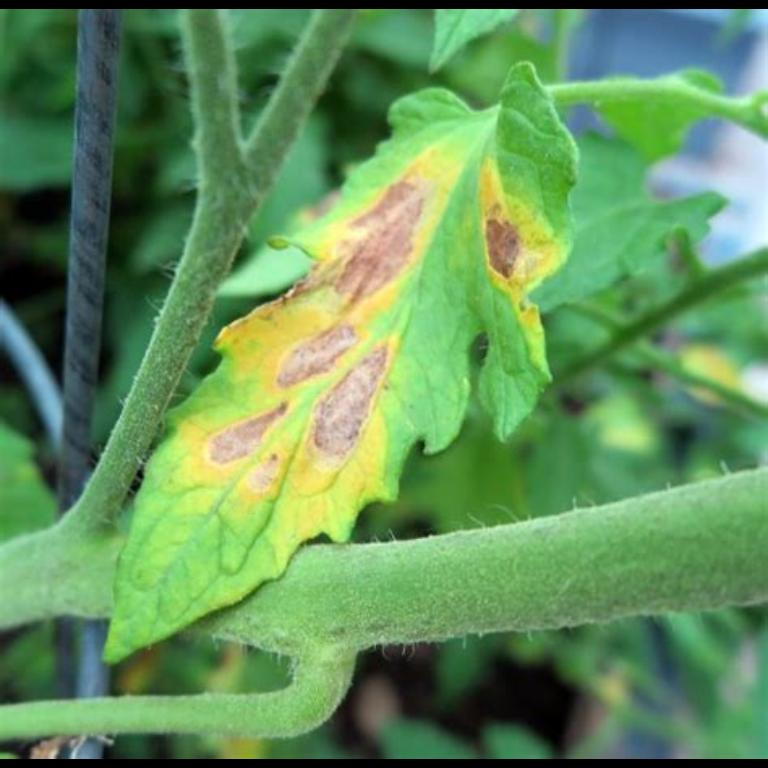blight: (240, 314, 392, 487), (473, 162, 565, 332)
